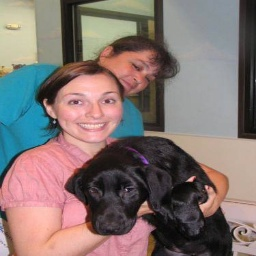dog: (73, 130, 236, 256)
